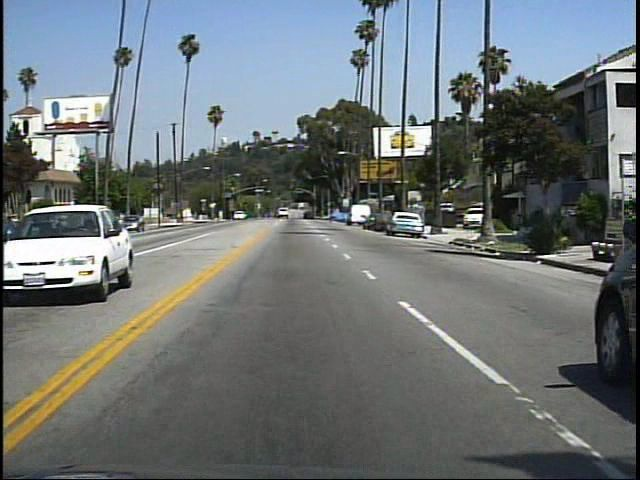person: (524, 198, 549, 253)
